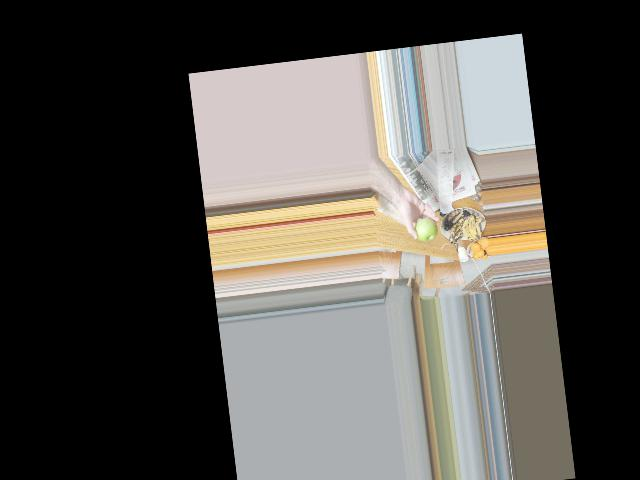apple: (413, 218, 438, 244)
